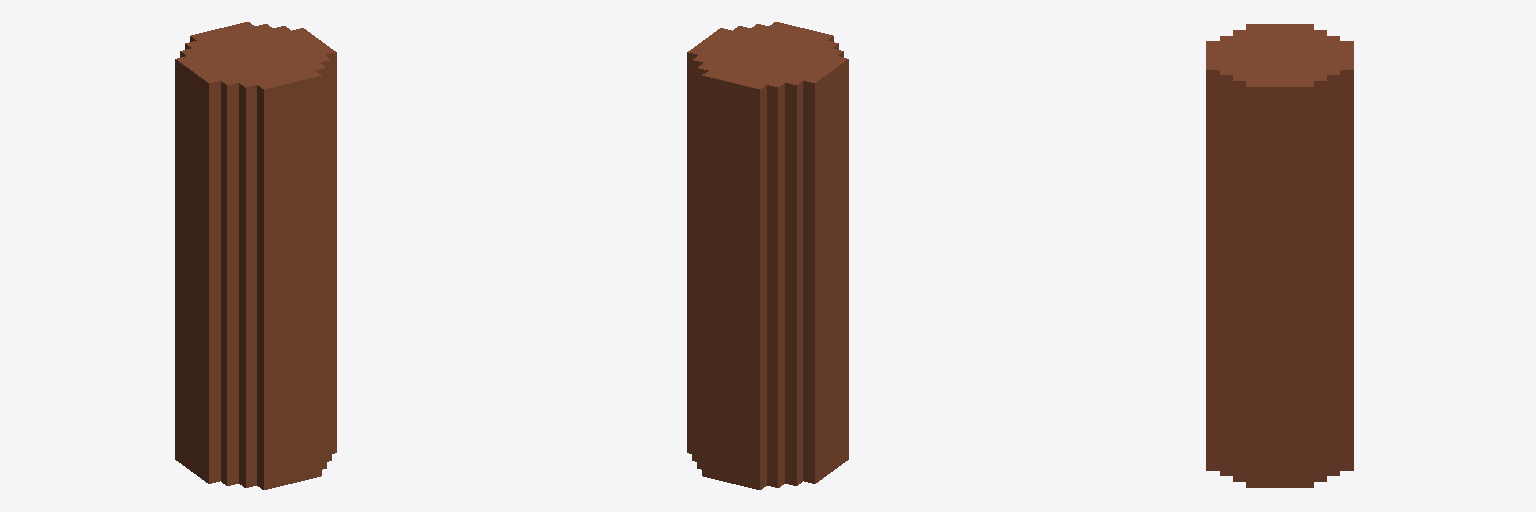
3 renders of one model, left to right at view 1: azimuth 30°, elevation 25°; view 2: azimuth 150°, elevation 25°; view 3: azimuth 270°, elevation 25°, orthographic.
Visible parts, largest first — view 1: object 1; view 2: object 1; view 3: object 1.
Boxes of the visible parts, <box> form: object 1: <box>175,22,336,489</box>; object 1: <box>687,22,848,489</box>; object 1: <box>1206,24,1353,487</box>.
Size of the model in its own units: 1.1 by 3.3 by 1.1.
1 materials, 1 textured.